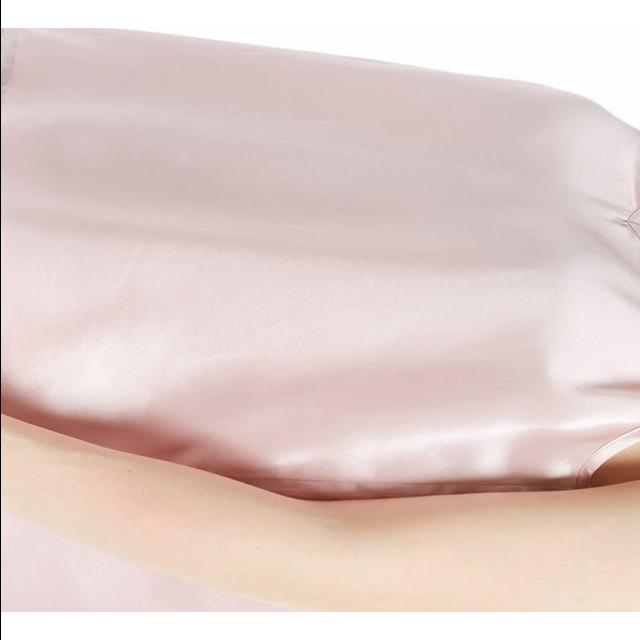silk: (0, 28, 640, 612)
